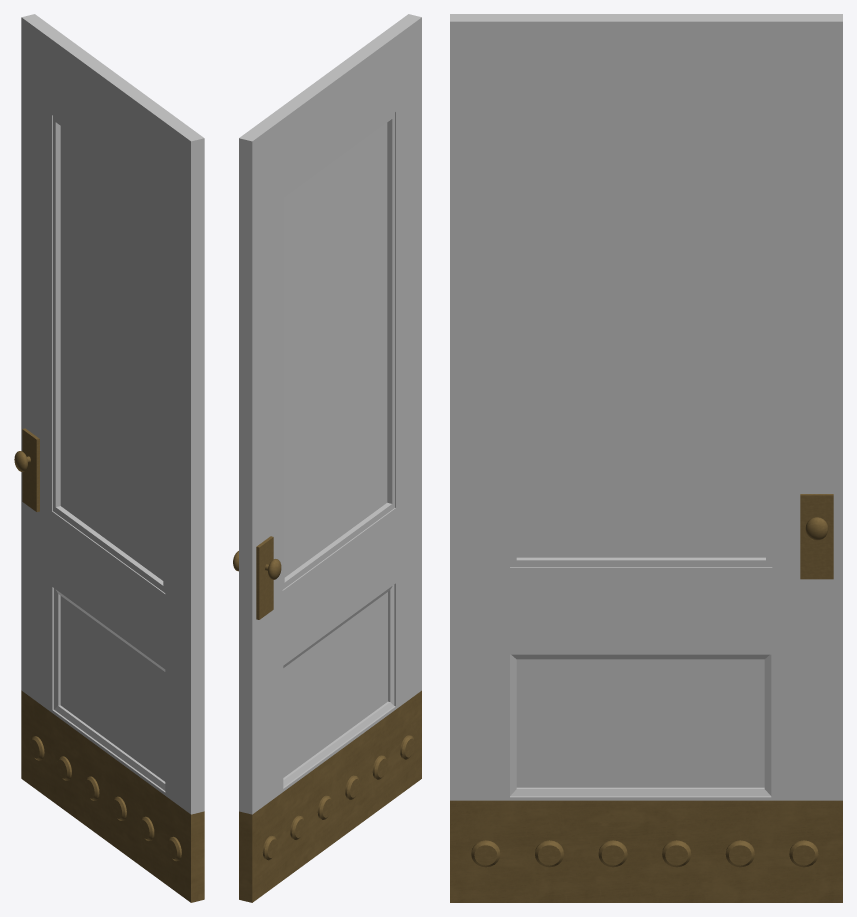
Rendered from SM_WD52_DOOR.fbx.
The picture shows the model from 3 angles, left to right: view 1: azimuth 30°, elevation 25°; view 2: azimuth 150°, elevation 25°; view 3: azimuth 270°, elevation 25°; orthographic projection. The views are drawn at different scales.
Parts seen in each view (by area): view 1: SM_WD52_DOOR; view 2: SM_WD52_DOOR; view 3: SM_WD52_DOOR.
Boxes of the visible parts, box(x1,y1,x2,y2) form: SM_WD52_DOOR: box(14, 14, 204, 902); SM_WD52_DOOR: box(233, 14, 421, 902); SM_WD52_DOOR: box(450, 14, 842, 902).
Bounding box in the file's own units: 13.49 × 89.27 × 221.
